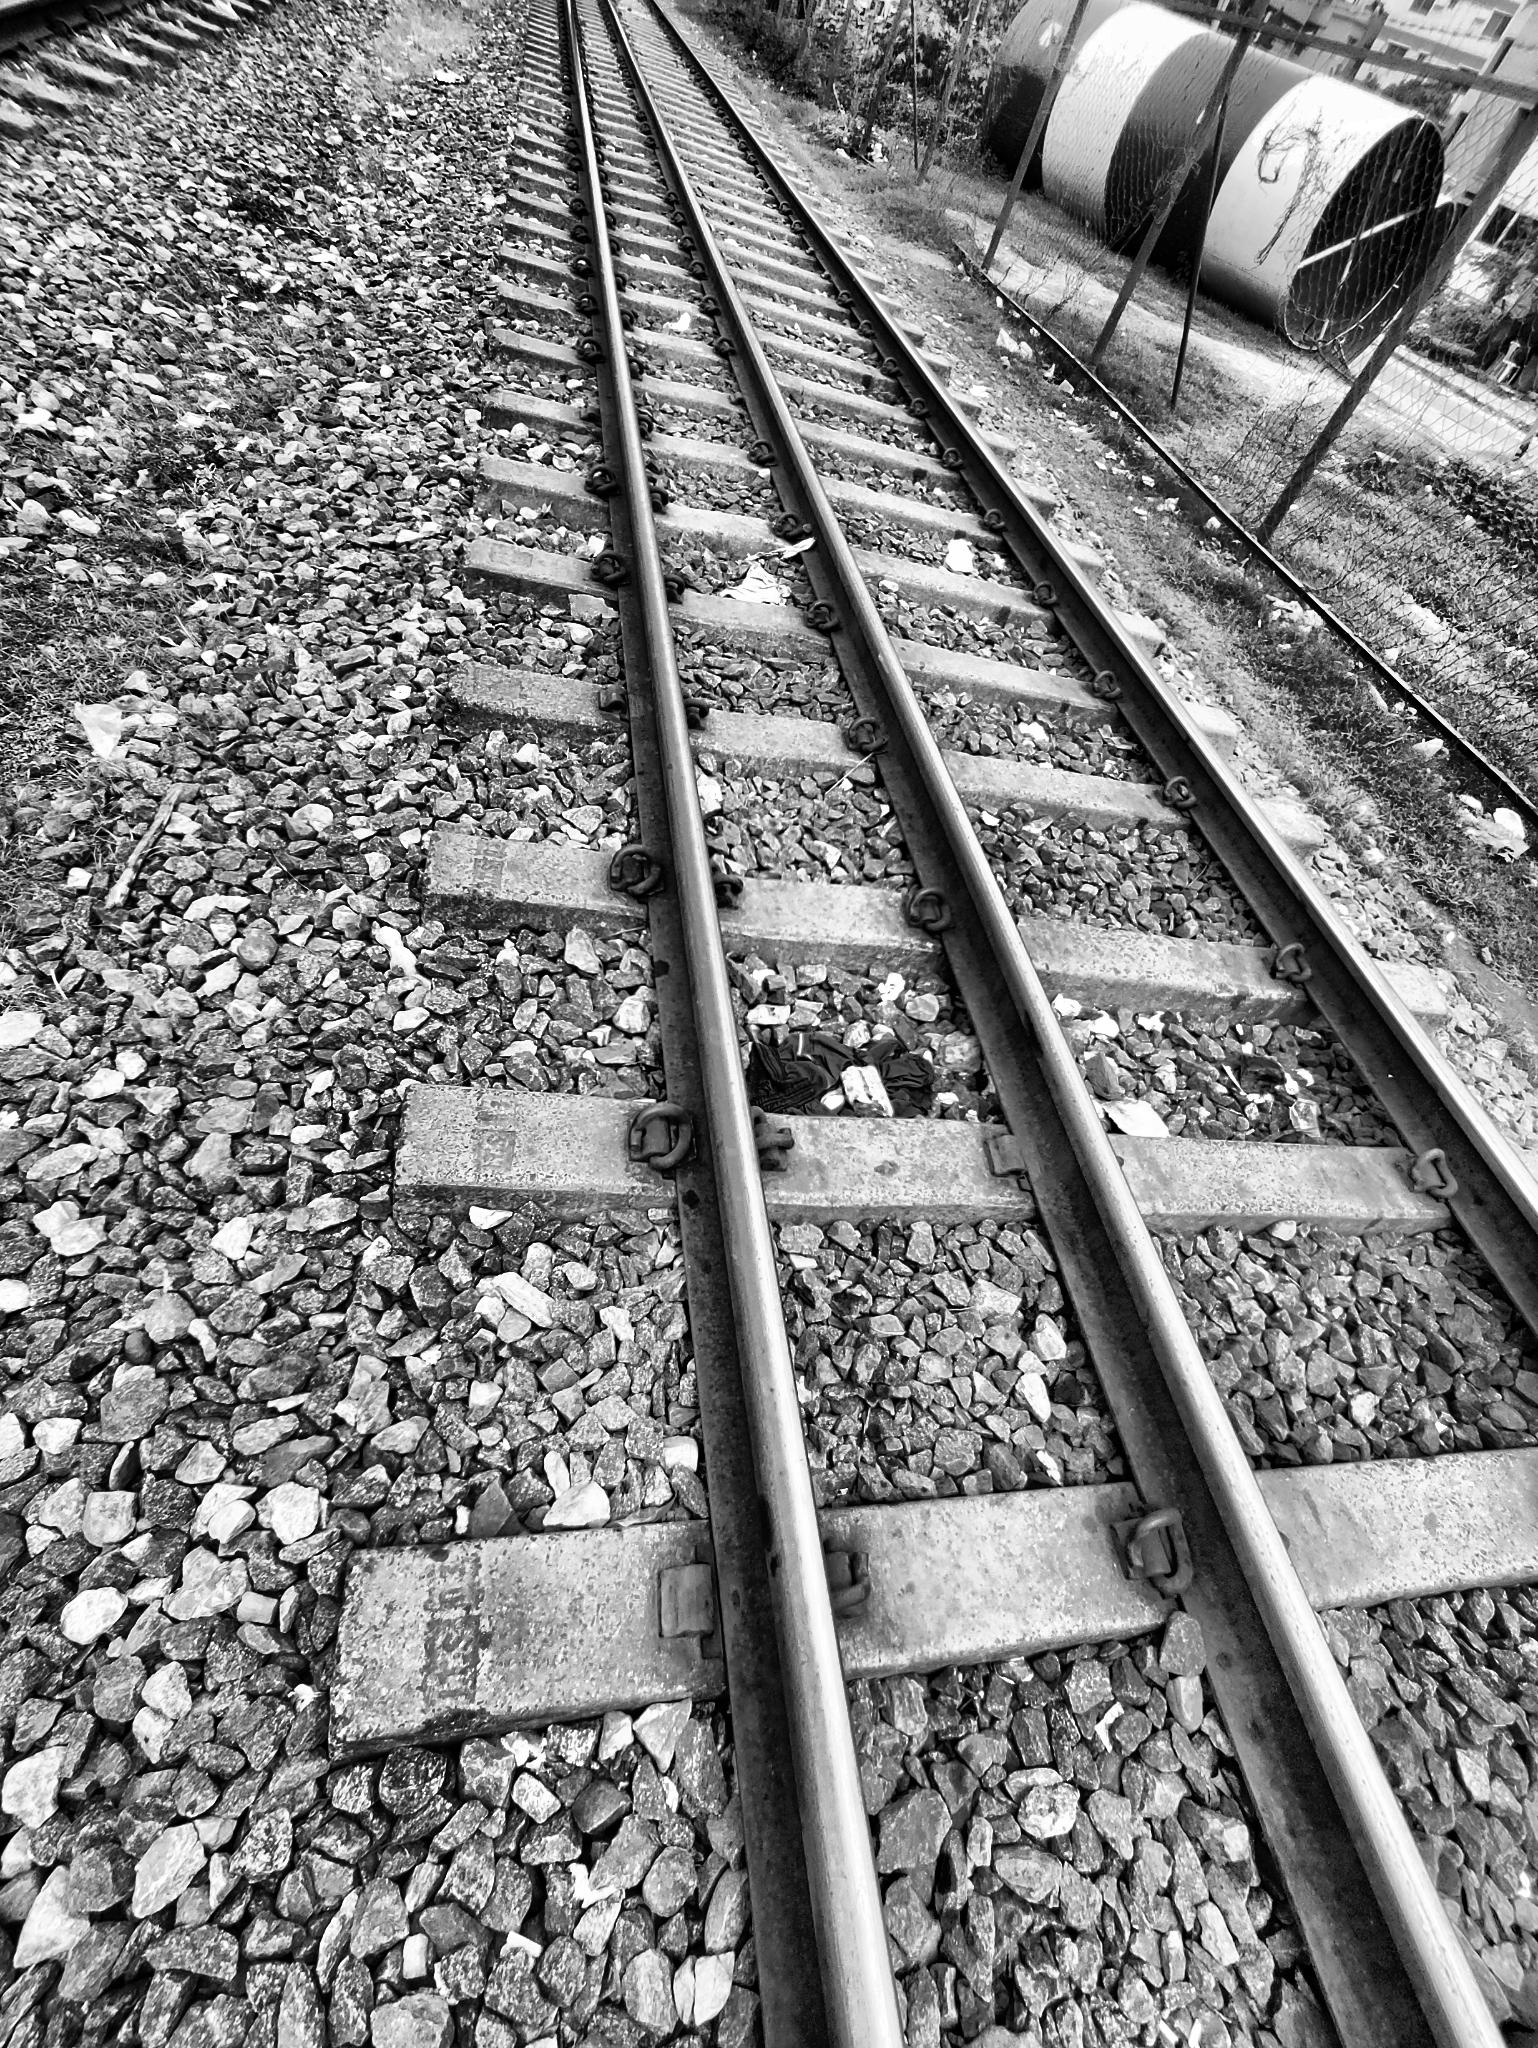Trash: (740, 1001, 947, 1131)
